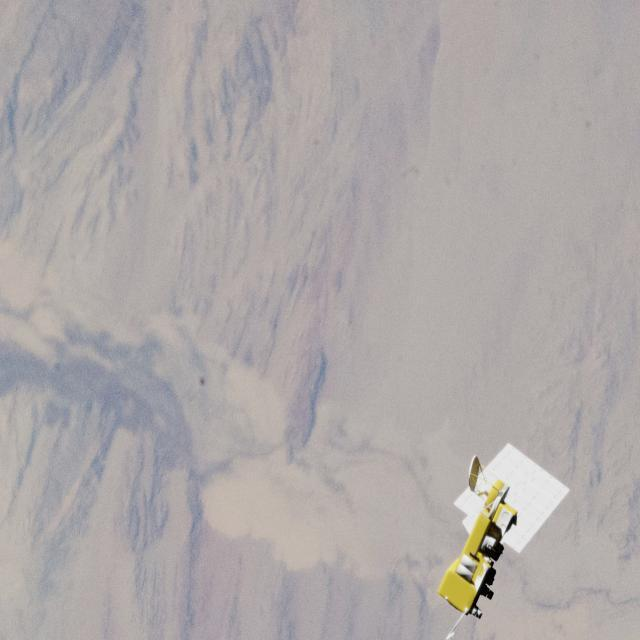satellite: (421, 429, 589, 640)
